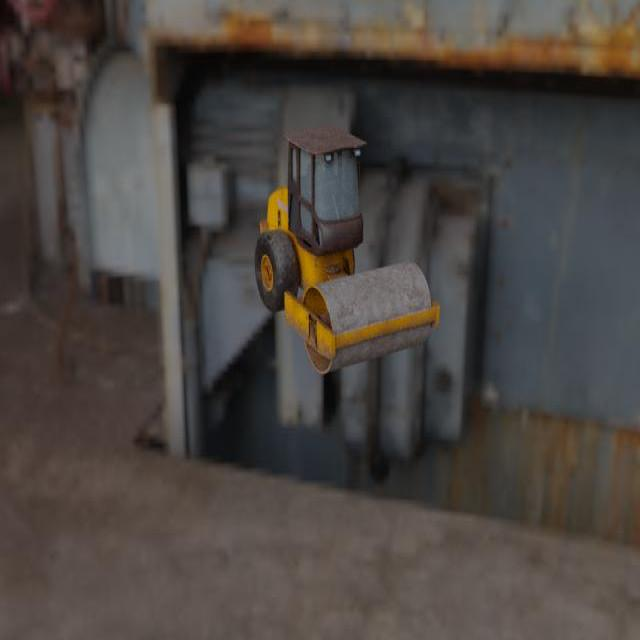Roller: (253, 125, 440, 374)
